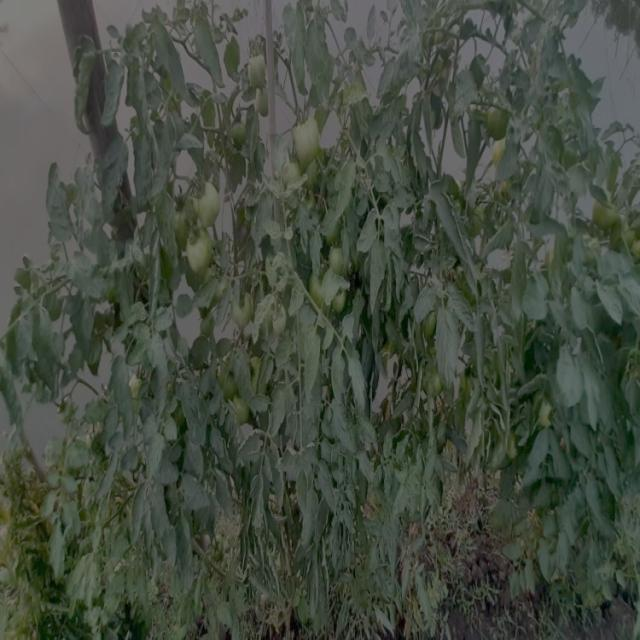tomato: (187, 174, 225, 228), (288, 109, 326, 162), (479, 97, 518, 148), (244, 44, 277, 94), (185, 230, 216, 275), (309, 270, 341, 313), (590, 193, 622, 235), (217, 353, 248, 396), (267, 296, 295, 339), (229, 287, 256, 326), (325, 241, 355, 276), (419, 303, 442, 337), (537, 395, 556, 434), (123, 364, 146, 396), (227, 399, 253, 427), (423, 368, 447, 398), (624, 224, 640, 266)
